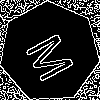M: (24, 27, 83, 85)
